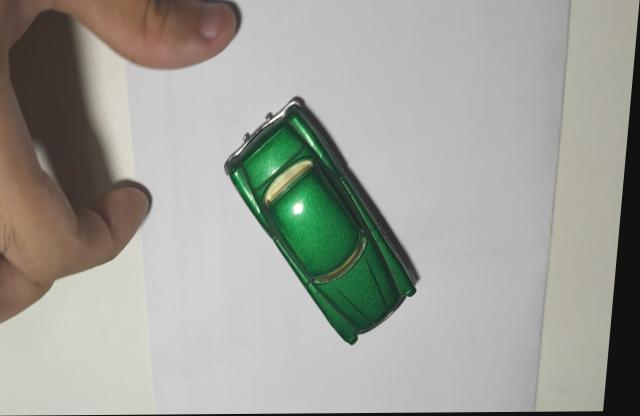06_MASERATI: (227, 95, 425, 345)
